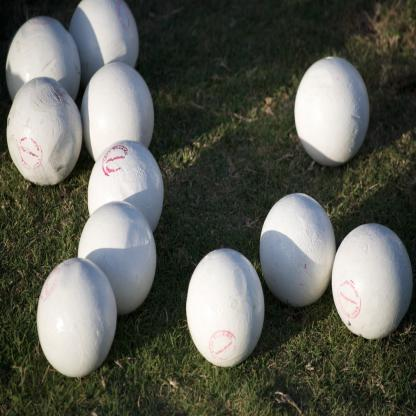Ball: (36, 255, 118, 377), (330, 226, 412, 343), (77, 198, 157, 317), (188, 249, 263, 367), (260, 192, 335, 308), (294, 54, 368, 167), (6, 76, 81, 186), (83, 62, 155, 160), (87, 141, 162, 233), (6, 18, 80, 102), (70, 0, 137, 84)
